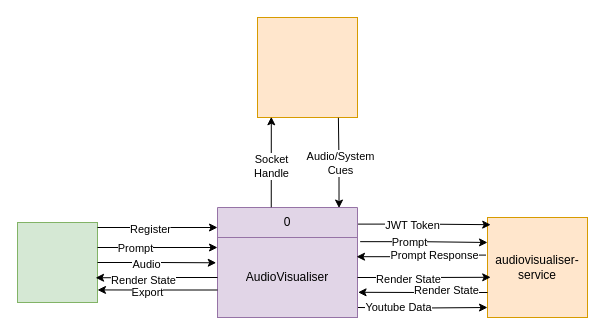
Image size: 605x335. Some labels were removed from this diagram. The centre of each missing label's shape, as x and y in pixels:
audiovisualiser-socket-client: [307,67]
User: [57,262]
